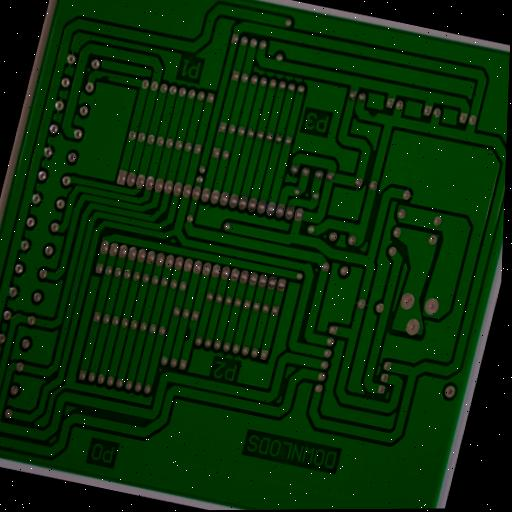mouse_bite: (181, 324, 195, 344), (96, 69, 113, 85), (365, 107, 380, 120)
